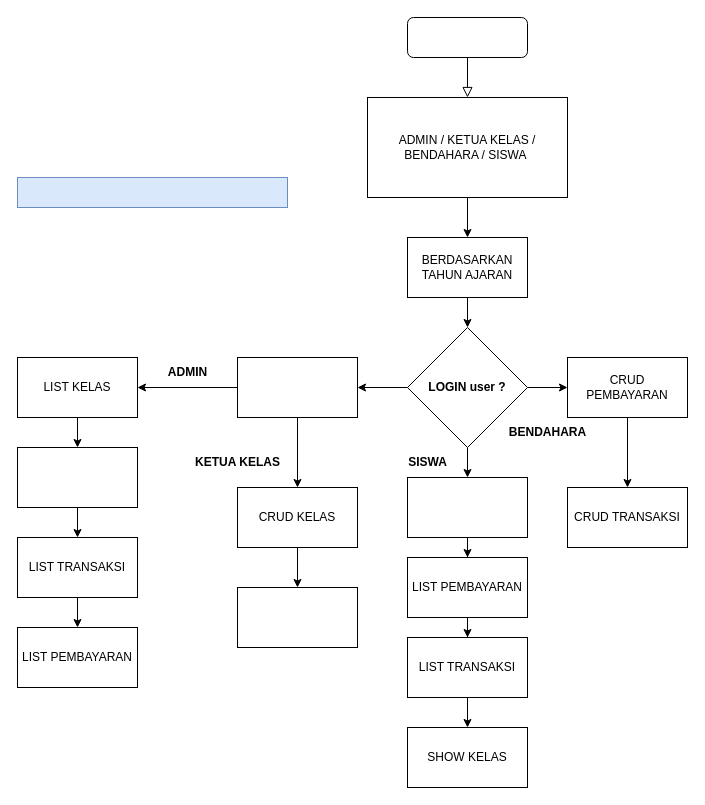
The diagram is 705 pixels wide and 805 high, and some of its shapes have lost their labels. Each missing label, with the box of its shape:
CRUD SISWA: (236, 586, 358, 648)
CRUD USERS: (236, 356, 358, 418)
LIST SISWA: (16, 446, 138, 508)
MULAI: (406, 16, 528, 58)
SYSTEM MANAGEMENT KEUANGAN KELAS: (16, 176, 288, 208)
UPDATE PROFILE SISWA: (406, 476, 528, 538)
